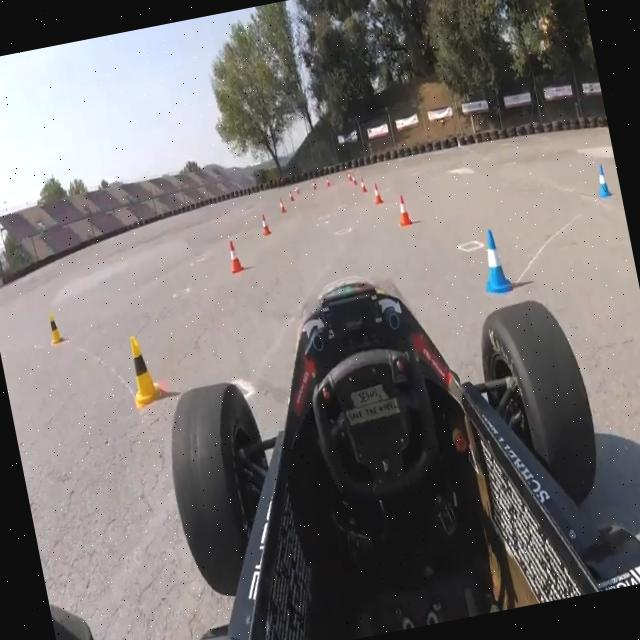blue_cone: (474, 226, 516, 301), (592, 164, 612, 201)
orange_cone: (225, 238, 245, 274), (393, 193, 412, 227), (260, 212, 272, 238), (371, 183, 384, 207), (358, 175, 368, 194), (278, 196, 288, 214)
yellow_cone: (118, 328, 165, 407), (45, 310, 64, 346)
